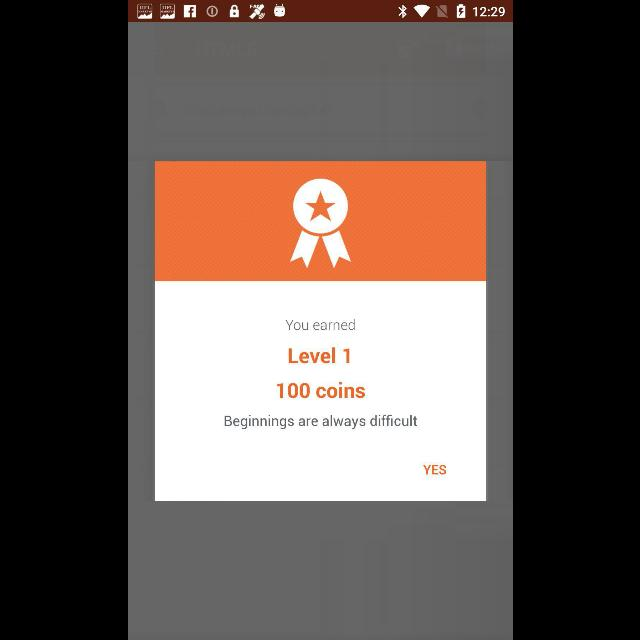image: (152, 162, 488, 280)
panel: (152, 163, 488, 502)
text: (224, 415, 416, 429), (276, 382, 364, 398), (288, 347, 348, 363), (284, 320, 354, 330), (422, 466, 446, 474)
uppertaskbar: (128, 1, 512, 23)
